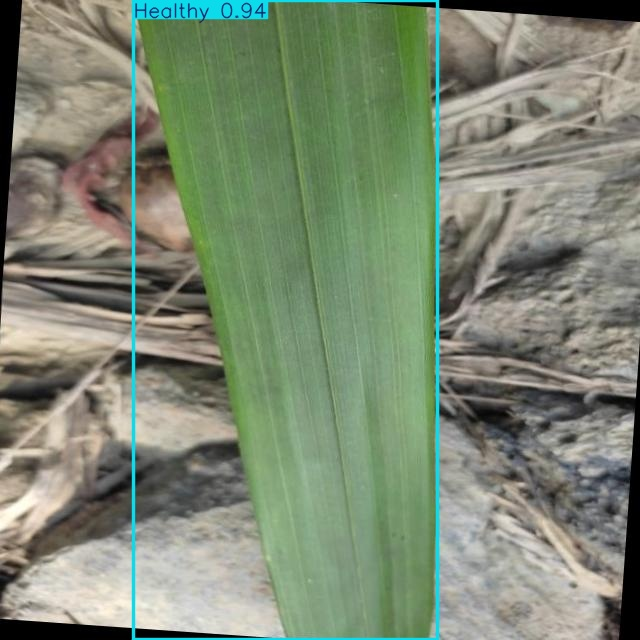Healthy: (134, 0, 438, 640)
